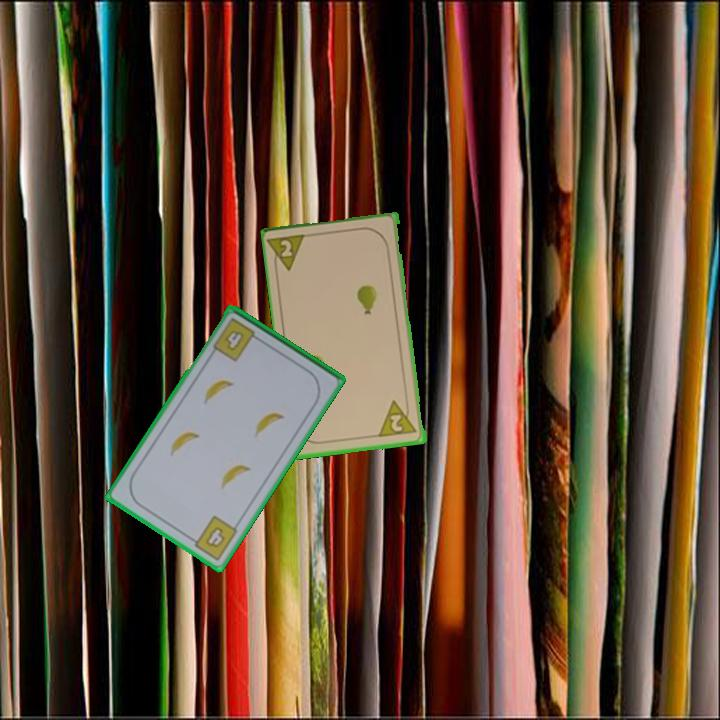2p: (266, 231, 311, 276), (376, 396, 421, 440)
4b: (185, 512, 241, 564), (209, 314, 264, 365)
